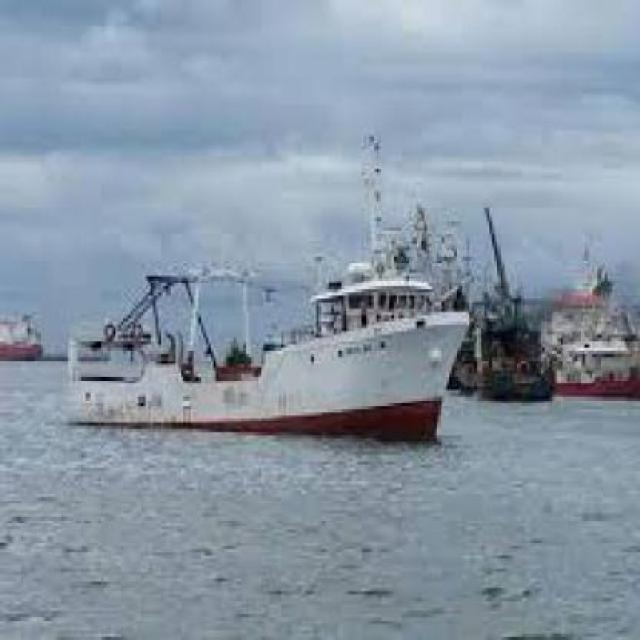fish-b: (51, 108, 483, 456)
